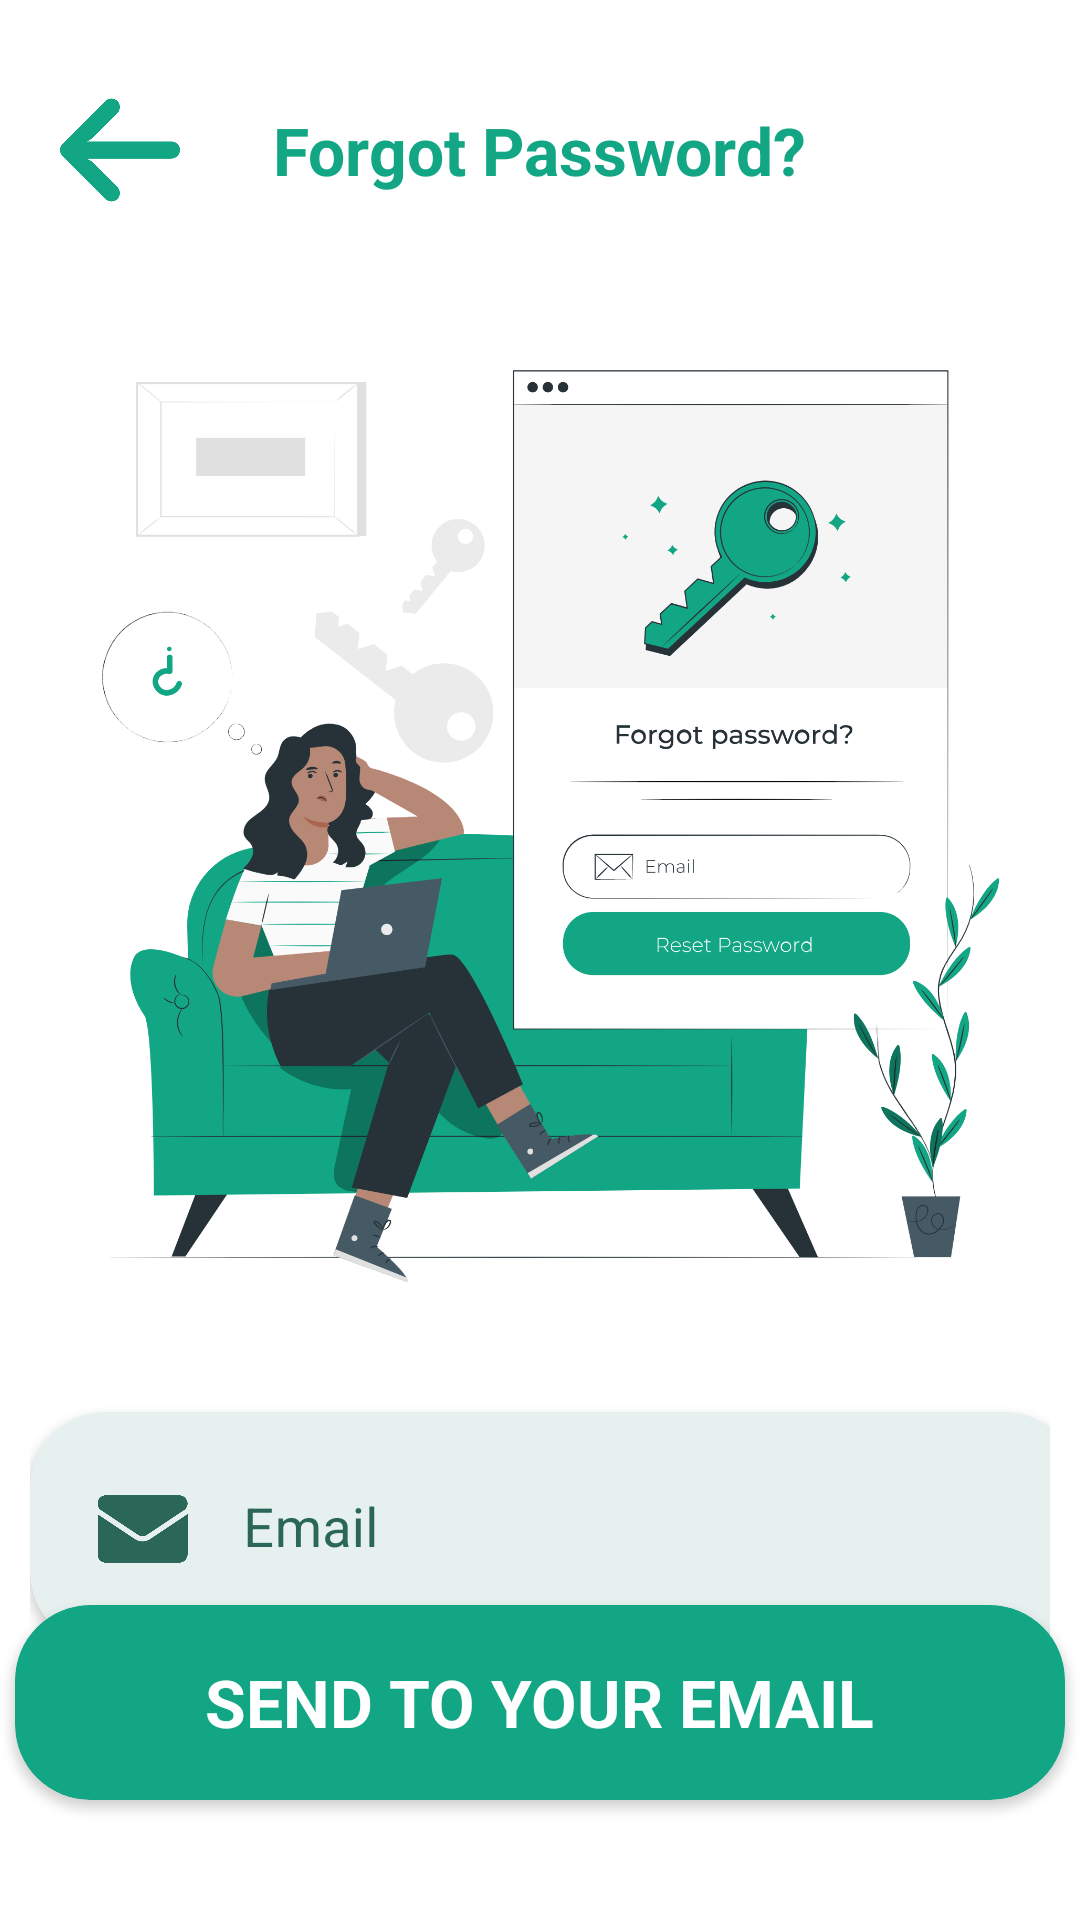

Icon click points for this 1080px×1920px phone screenshot, format [x,y]:
back arrow: [120,150]
